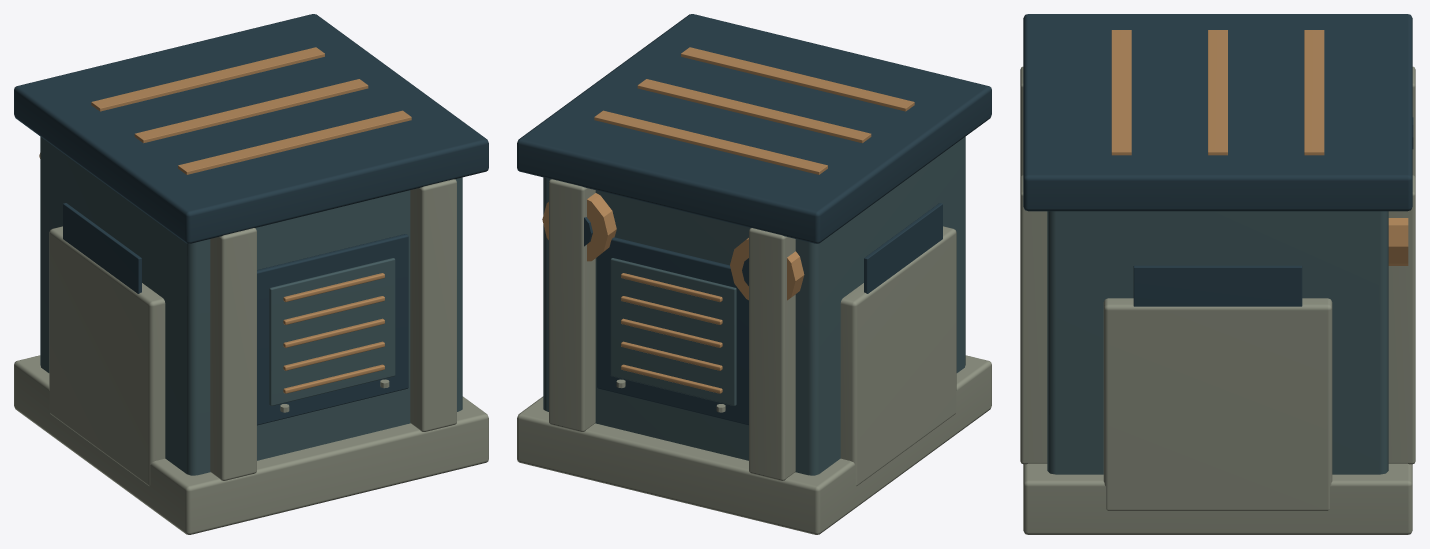
Rendered from pump-0.glb.
3 renders of one model, left to right at view 1: azimuth 30°, elevation 25°; view 2: azimuth 150°, elevation 25°; view 3: azimuth 270°, elevation 25°, orthographic. The views are drawn at different scales.
Parts seen in each view (by area): view 1: pump_2, pump_1, pump_0, pump_3; view 2: pump_2, pump_1, pump_0, pump_3; view 3: pump_1, pump_2, pump_0, pump_3.
Part boxes in pixels (left/top/right/bottom): pump_2: left=14, top=14, right=488, bottom=425; pump_1: left=14, top=179, right=488, bottom=534; pump_0: left=40, top=136, right=462, bottom=475; pump_3: left=39, top=47, right=411, bottom=393; pump_2: left=517, top=14, right=991, bottom=425; pump_1: left=517, top=179, right=991, bottom=534; pump_0: left=543, top=136, right=965, bottom=475; pump_3: left=542, top=47, right=914, bottom=393; pump_1: left=1020, top=66, right=1415, bottom=534; pump_2: left=1023, top=14, right=1413, bottom=306; pump_0: left=1047, top=211, right=1388, bottom=474; pump_3: left=1111, top=30, right=1408, bottom=265.
Bounding box in the file's own units: 0.975 × 0.9995 × 0.985.
